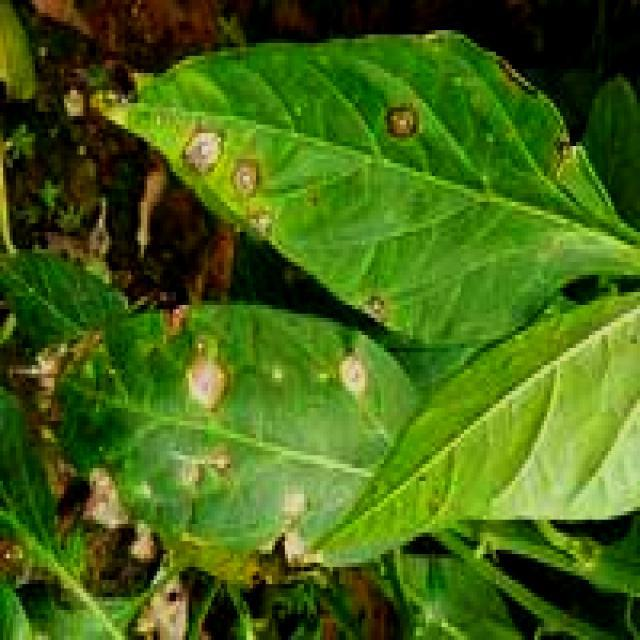Bercak Daun Serkospora: (95, 38, 640, 342), (38, 301, 428, 586)
